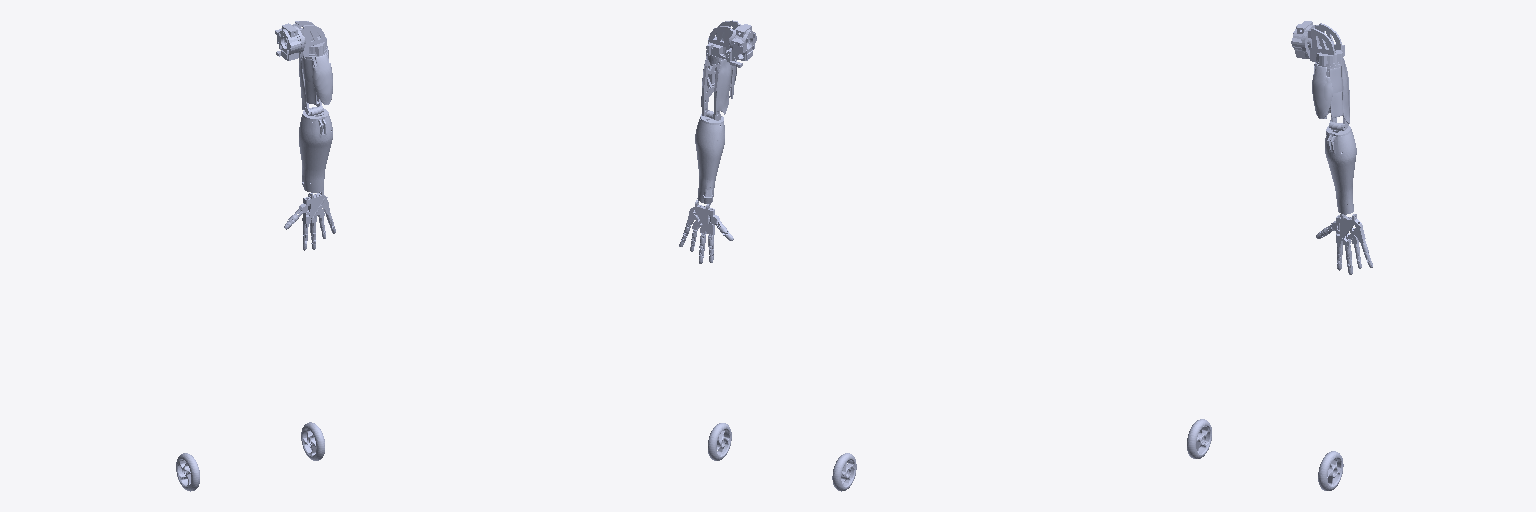
The robot description file, URDF, robot "final_urdf":
<?xml version="1.0" encoding="utf-8"?>
<!-- This URDF was automatically created by SolidWorks to URDF Exporter! Originally created by Stephen Brawner ([email redacted]) 
     Commit Version: 1.6.0-4-g7f85cfe  Build Version: 1.6.7995.38578
     For more information, please see http://wiki.ros.org/sw_urdf_exporter -->
<robot
  name="final_urdf">
  <link
    name="base_link">
    <inertial>
      <origin
        xyz="-0.00052878 0.75681 0.0031798"
        rpy="0 0 0" />
      <mass
        value="12.635" />
      <inertia
        ixx="0.76201"
        ixy="-0.00013569"
        ixz="-7.06E-07"
        iyy="0.16068"
        iyz="-0.0042144"
        izz="0.85624" />
    </inertial>
    <visual>
      <origin
        xyz="0 0 0"
        rpy="0 0 0" />
      <geometry>
        <mesh
          filename="package://final_urdf/meshes/base_link.STL" />
      </geometry>
      <material
        name="">
        <color
          rgba="0.75294 0.75294 0.75294 1" />
      </material>
    </visual>
    <collision>
      <origin
        xyz="0 0 0"
        rpy="0 0 0" />
      <geometry>
        <mesh
          filename="package://final_urdf/meshes/base_link.STL" />
      </geometry>
    </collision>
  </link>
  <link
    name="Right_Wheel">
    <inertial>
      <origin
        xyz="0.015 1.4476E-07 -1.2367E-07"
        rpy="0 0 0" />
      <mass
        value="0.19218" />
      <inertia
        ixx="0.00045585"
        ixy="6.3221E-10"
        ixz="1.0791E-10"
        iyy="0.00023865"
        iyz="2.1634E-09"
        izz="0.00023863" />
    </inertial>
    <visual>
      <origin
        xyz="0 0 0"
        rpy="0 0 0" />
      <geometry>
        <mesh
          filename="package://final_urdf/meshes/Right_Wheel.STL" />
      </geometry>
      <material
        name="">
        <color
          rgba="0.79216 0.81961 0.93333 1" />
      </material>
    </visual>
    <collision>
      <origin
        xyz="0 0 0"
        rpy="0 0 0" />
      <geometry>
        <mesh
          filename="package://final_urdf/meshes/Right_Wheel.STL" />
      </geometry>
    </collision>
  </link>
  <joint
    name="RW-joint"
    type="continuous">
    <origin
      xyz="0.21499 -0.0049783 0.34548"
      rpy="1.4696 0 0" />
    <parent
      link="base_link" />
    <child
      link="Right_Wheel" />
    <axis
      xyz="1 0 0" />
  </joint>
  <link
    name="Left_Wheel">
    <inertial>
      <origin
        xyz="-0.015 1.3775E-07 -1.3149E-07"
        rpy="0 0 0" />
      <mass
        value="0.19218" />
      <inertia
        ixx="0.00045585"
        ixy="6.3461E-10"
        ixz="1.6632E-10"
        iyy="0.00023865"
        iyz="2.268E-09"
        izz="0.00023863" />
    </inertial>
    <visual>
      <origin
        xyz="0 0 0"
        rpy="0 0 0" />
      <geometry>
        <mesh
          filename="package://final_urdf/meshes/Left_Wheel.STL" />
      </geometry>
      <material
        name="">
        <color
          rgba="0.79216 0.81961 0.93333 1" />
      </material>
    </visual>
    <collision>
      <origin
        xyz="0 0 0"
        rpy="0 0 0" />
      <geometry>
        <mesh
          filename="package://final_urdf/meshes/Left_Wheel.STL" />
      </geometry>
    </collision>
  </link>
  <joint
    name="LW_joint"
    type="continuous">
    <origin
      xyz="-0.21501 -0.0049783 0.34548"
      rpy="1.0186 0 0" />
    <parent
      link="base_link" />
    <child
      link="Left_Wheel" />
    <axis
      xyz="1 0 0" />
  </joint>
  <link
    name="Shoulder_1">
    <inertial>
      <origin
        xyz="0.0021043 -0.0053417 0.042865"
        rpy="0 0 0" />
      <mass
        value="0.23976" />
      <inertia
        ixx="0.00031975"
        ixy="-6.3118E-06"
        ixz="4.2341E-07"
        iyy="0.00021027"
        iyz="-1.56E-05"
        izz="0.00015938" />
    </inertial>
    <visual>
      <origin
        xyz="0 0 0"
        rpy="0 0 0" />
      <geometry>
        <mesh
          filename="package://final_urdf/meshes/Shoulder_1.STL" />
      </geometry>
      <material
        name="">
        <color
          rgba="0.79216 0.81961 0.93333 1" />
      </material>
    </visual>
    <collision>
      <origin
        xyz="0 0 0"
        rpy="0 0 0" />
      <geometry>
        <mesh
          filename="package://final_urdf/meshes/Shoulder_1.STL" />
      </geometry>
    </collision>
  </link>
  <joint
    name="joint_1"
    type="continuous">
    <origin
      xyz="0.14336 -1.3922E-05 1.813"
      rpy="3.14 0.068756 -3.1404" />
    <parent
      link="base_link" />
    <child
      link="Shoulder_1" />
    <axis
      xyz="0.0012447 -1 -0.0016613" />
  </joint>
  <link
    name="Shoulder_2">
    <inertial>
      <origin
        xyz="-0.052482 -0.0015087 -0.024315"
        rpy="0 0 0" />
      <mass
        value="0.37576" />
      <inertia
        ixx="0.00031864"
        ixy="1.2106E-05"
        ixz="-7.1449E-06"
        iyy="0.00029105"
        iyz="6.9415E-06"
        izz="0.00035226" />
    </inertial>
    <visual>
      <origin
        xyz="0 0 0"
        rpy="0 0 0" />
      <geometry>
        <mesh
          filename="package://final_urdf/meshes/Shoulder_2.STL" />
      </geometry>
      <material
        name="">
        <color
          rgba="0.79216 0.81961 0.93333 1" />
      </material>
    </visual>
    <collision>
      <origin
        xyz="0 0 0"
        rpy="0 0 0" />
      <geometry>
        <mesh
          filename="package://final_urdf/meshes/Shoulder_2.STL" />
      </geometry>
    </collision>
  </link>
  <joint
    name="joint_2"
    type="continuous">
    <origin
      xyz="-0.0032513 -0.008665 0.039394"
      rpy="-3.1 0 0" />
    <parent
      link="Shoulder_1" />
    <child
      link="Shoulder_2" />
    <axis
      xyz="1 0 0" />
  </joint>
  <link
    name="Bicep">
    <inertial>
      <origin
        xyz="0.00017017 -0.0050241 -0.065777"
        rpy="0 0 0" />
      <mass
        value="0.50084" />
      <inertia
        ixx="0.00056295"
        ixy="-1.8363E-07"
        ixz="-9.6838E-08"
        iyy="0.00038313"
        iyz="-5.4328E-05"
        izz="0.0004318" />
    </inertial>
    <visual>
      <origin
        xyz="0 0 0"
        rpy="0 0 0" />
      <geometry>
        <mesh
          filename="package://final_urdf/meshes/Bicep.STL" />
      </geometry>
      <material
        name="">
        <color
          rgba="0.79216 0.81961 0.93333 1" />
      </material>
    </visual>
    <collision>
      <origin
        xyz="0 0 0"
        rpy="0 0 0" />
      <geometry>
        <mesh
          filename="package://final_urdf/meshes/Bicep.STL" />
      </geometry>
    </collision>
  </link>
  <joint
    name="joint_3"
    type="continuous">
    <origin
      xyz="-0.076136 0.00021766 -0.05947"
      rpy="0 0 -0.035558" />
    <parent
      link="Shoulder_2" />
    <child
      link="Bicep" />
    <axis
      xyz="0 0 1" />
  </joint>
  <link
    name="Forearm">
    <inertial>
      <origin
        xyz="0.0042594 0.064204 -0.14459"
        rpy="0 0 0" />
      <mass
        value="0.18916" />
      <inertia
        ixx="0.00014707"
        ixy="3.1597E-05"
        ixz="2.0138E-05"
        iyy="0.00016189"
        iyz="1.4117E-06"
        izz="0.00015162" />
    </inertial>
    <visual>
      <origin
        xyz="0 0 0"
        rpy="0 0 0" />
      <geometry>
        <mesh
          filename="package://final_urdf/meshes/Forearm.STL" />
      </geometry>
      <material
        name="">
        <color
          rgba="0.79216 0.81961 0.93333 1" />
      </material>
    </visual>
    <collision>
      <origin
        xyz="0 0 0"
        rpy="0 0 0" />
      <geometry>
        <mesh
          filename="package://final_urdf/meshes/Forearm.STL" />
      </geometry>
    </collision>
  </link>
  <joint
    name="joint_4"
    type="continuous">
    <origin
      xyz="0 -0.028632 -0.22301"
      rpy="-0.56625 -0.00052127 -0.0057192" />
    <parent
      link="Bicep" />
    <child
      link="Forearm" />
    <axis
      xyz="0.99998 0.0051061 0.0026283" />
  </joint>
  <link
    name="Wrist">
    <inertial>
      <origin
        xyz="0.0017578 0.032589 -0.069263"
        rpy="0 0 0" />
      <mass
        value="0.090105" />
      <inertia
        ixx="8.6338E-05"
        ixy="2.6375E-05"
        ixz="2.207E-06"
        iyy="7.845E-05"
        iyz="2.0217E-05"
        izz="6.946E-05" />
    </inertial>
    <visual>
      <origin
        xyz="0 0 0"
        rpy="0 0 0" />
      <geometry>
        <mesh
          filename="package://final_urdf/meshes/Wrist.STL" />
      </geometry>
      <material
        name="">
        <color
          rgba="0.79216 0.81961 0.93333 1" />
      </material>
    </visual>
    <collision>
      <origin
        xyz="0 0 0"
        rpy="0 0 0" />
      <geometry>
        <mesh
          filename="package://final_urdf/meshes/Wrist.STL" />
      </geometry>
    </collision>
  </link>
  <joint
    name="joint_5"
    type="continuous">
    <origin
      xyz="0.0085293 0.11472 -0.2579"
      rpy="-0.79284 0.33832 -2.3836" />
    <parent
      link="Forearm" />
    <child
      link="Wrist" />
    <axis
      xyz="0.0053208 0.44451 -0.89576" />
  </joint>
  <link
    name="Thumb">
    <inertial>
      <origin
        xyz="0.0038181 0.03909 -0.034823"
        rpy="0 0 0" />
      <mass
        value="0.024467" />
      <inertia
        ixx="3.8118E-06"
        ixy="-9.3021E-08"
        ixz="9.6671E-08"
        iyy="2.6549E-06"
        iyz="7.8912E-07"
        izz="2.591E-06" />
    </inertial>
    <visual>
      <origin
        xyz="0 0 0"
        rpy="0 0 0" />
      <geometry>
        <mesh
          filename="package://final_urdf/meshes/Thumb.STL" />
      </geometry>
      <material
        name="">
        <color
          rgba="0.79216 0.81961 0.93333 1" />
      </material>
    </visual>
    <collision>
      <origin
        xyz="0 0 0"
        rpy="0 0 0" />
      <geometry>
        <mesh
          filename="package://final_urdf/meshes/Thumb.STL" />
      </geometry>
    </collision>
  </link>
  <joint
    name="F_joint_1"
    type="continuous">
    <origin
      xyz="-0.021269 0.037586 -0.034953"
      rpy="-2.0259 0.28567 -2.5031" />
    <parent
      link="Wrist" />
    <child
      link="Thumb" />
    <axis
      xyz="0.0045381 0.99999 0.0027875" />
  </joint>
  <link
    name="Index">
    <inertial>
      <origin
        xyz="0.015147 -0.0010598 0.039524"
        rpy="0 0 0" />
      <mass
        value="0.011956" />
      <inertia
        ixx="1.2132E-06"
        ixy="-1.6769E-11"
        ixz="-4.7789E-09"
        iyy="1.259E-06"
        iyz="1.108E-08"
        izz="4.1574E-07" />
    </inertial>
    <visual>
      <origin
        xyz="0 0 0"
        rpy="0 0 0" />
      <geometry>
        <mesh
          filename="package://final_urdf/meshes/Index.STL" />
      </geometry>
      <material
        name="">
        <color
          rgba="0.79216 0.81961 0.93333 1" />
      </material>
    </visual>
    <collision>
      <origin
        xyz="0 0 0"
        rpy="0 0 0" />
      <geometry>
        <mesh
          filename="package://final_urdf/meshes/Index.STL" />
      </geometry>
    </collision>
  </link>
  <joint
    name="F_joint_2"
    type="continuous">
    <origin
      xyz="-0.013666 0.069894 -0.10903"
      rpy="2.7714 -0.38776 2.5136" />
    <parent
      link="Wrist" />
    <child
      link="Index" />
    <axis
      xyz="1 0 0" />
  </joint>
  <link
    name="Middle">
    <inertial>
      <origin
        xyz="0.0065868 0.0014489 -0.04217"
        rpy="0 0 0" />
      <mass
        value="0.01491" />
      <inertia
        ixx="1.7211E-06"
        ixy="-1.66E-10"
        ixz="-5.6928E-09"
        iyy="1.7848E-06"
        iyz="5.9171E-09"
        izz="5.9104E-07" />
    </inertial>
    <visual>
      <origin
        xyz="0 0 0"
        rpy="0 0 0" />
      <geometry>
        <mesh
          filename="package://final_urdf/meshes/Middle.STL" />
      </geometry>
      <material
        name="">
        <color
          rgba="0.79216 0.81961 0.93333 1" />
      </material>
    </visual>
    <collision>
      <origin
        xyz="0 0 0"
        rpy="0 0 0" />
      <geometry>
        <mesh
          filename="package://final_urdf/meshes/Middle.STL" />
      </geometry>
    </collision>
  </link>
  <joint
    name="F_joint_3"
    type="continuous">
    <origin
      xyz="0.0006875 0.059807 -0.11727"
      rpy="-0.38367 -0.30196 2.4732" />
    <parent
      link="Wrist" />
    <child
      link="Middle" />
    <axis
      xyz="1 0 0" />
  </joint>
  <link
    name="Ring">
    <inertial>
      <origin
        xyz="0.020543 0.00096305 0.034354"
        rpy="0 0 0" />
      <mass
        value="0.0075882" />
      <inertia
        ixx="5.6309E-07"
        ixy="6.3399E-11"
        ixz="-2.8681E-09"
        iyy="5.8362E-07"
        iyz="-3.061E-11"
        izz="1.9465E-07" />
    </inertial>
    <visual>
      <origin
        xyz="0 0 0"
        rpy="0 0 0" />
      <geometry>
        <mesh
          filename="package://final_urdf/meshes/Ring.STL" />
      </geometry>
      <material
        name="">
        <color
          rgba="0.79216 0.81961 0.93333 1" />
      </material>
    </visual>
    <collision>
      <origin
        xyz="0 0 0"
        rpy="0 0 0" />
      <geometry>
        <mesh
          filename="package://final_urdf/meshes/Ring.STL" />
      </geometry>
    </collision>
  </link>
  <joint
    name="F_joint_4"
    type="continuous">
    <origin
      xyz="0.0035924 0.054749 -0.11154"
      rpy="-2.8571 0.21954 -0.70758" />
    <parent
      link="Wrist" />
    <child
      link="Ring" />
    <axis
      xyz="1 0 0" />
  </joint>
  <link
    name="Pinkie">
    <inertial>
      <origin
        xyz="-0.035936 -0.00030219 0.037561"
        rpy="0 0 0" />
      <mass
        value="0.010545" />
      <inertia
        ixx="9.6496E-07"
        ixy="3.379E-10"
        ixz="2.9305E-09"
        iyy="1.0011E-06"
        iyz="-8.1258E-10"
        izz="3.3116E-07" />
    </inertial>
    <visual>
      <origin
        xyz="0 0 0"
        rpy="0 0 0" />
      <geometry>
        <mesh
          filename="package://final_urdf/meshes/Pinkie.STL" />
      </geometry>
      <material
        name="">
        <color
          rgba="0.79216 0.81961 0.93333 1" />
      </material>
    </visual>
    <collision>
      <origin
        xyz="0 0 0"
        rpy="0 0 0" />
      <geometry>
        <mesh
          filename="package://final_urdf/meshes/Pinkie.STL" />
      </geometry>
    </collision>
  </link>
  <joint
    name="F_joint_5"
    type="continuous">
    <origin
      xyz="0.0099182 0.045235 -0.1101"
      rpy="2.8446 -0.063551 2.3844" />
    <parent
      link="Wrist" />
    <child
      link="Pinkie" />
    <axis
      xyz="1 0 0" />
  </joint>
</robot>

--- Render facts (derived) ---
The picture shows the robot from 3 angles, left to right: view 1: azimuth 30°, elevation 25°; view 2: azimuth 150°, elevation 25°; view 3: azimuth 330°, elevation 25°; orthographic projection.
Robot: final_urdf — 13 links, 12 joints (12 continuous); root link base_link; default pose: every joint at zero.
Links seen in each view (by area): view 1: Forearm, Bicep, Shoulder_2, Shoulder_1, Right_Wheel, Left_Wheel, Wrist; view 2: Forearm, Bicep, Shoulder_2, Shoulder_1, Left_Wheel, Right_Wheel, Wrist; view 3: Forearm, Bicep, Shoulder_2, Right_Wheel, Left_Wheel, Wrist.
Link boxes in pixels (x1,y1,x2,y2): Forearm: (299, 106, 332, 192); Bicep: (299, 48, 332, 115); Shoulder_2: (292, 21, 327, 57); Shoulder_1: (275, 23, 301, 60); Right_Wheel: (301, 422, 324, 460); Left_Wheel: (176, 453, 199, 491); Wrist: (302, 190, 329, 227); Forearm: (695, 110, 724, 203); Bicep: (701, 50, 736, 120); Shoulder_2: (706, 20, 741, 62); Shoulder_1: (730, 24, 756, 67); Left_Wheel: (832, 453, 856, 491); Right_Wheel: (708, 423, 731, 460); Wrist: (686, 200, 714, 237); Forearm: (1325, 122, 1356, 214); Bicep: (1312, 60, 1349, 130); Shoulder_2: (1302, 23, 1344, 65); Right_Wheel: (1318, 451, 1343, 490); Left_Wheel: (1187, 419, 1211, 458); Wrist: (1336, 214, 1365, 248).
Bounding box of the posed robot: 0.5902 × 0.1558 × 1.54 m (x, y, z).
12 mesh visuals loaded from 13 distinct referenced files (12 binary STL); not drawn: 1 (reference not matched to a file when rendering).
